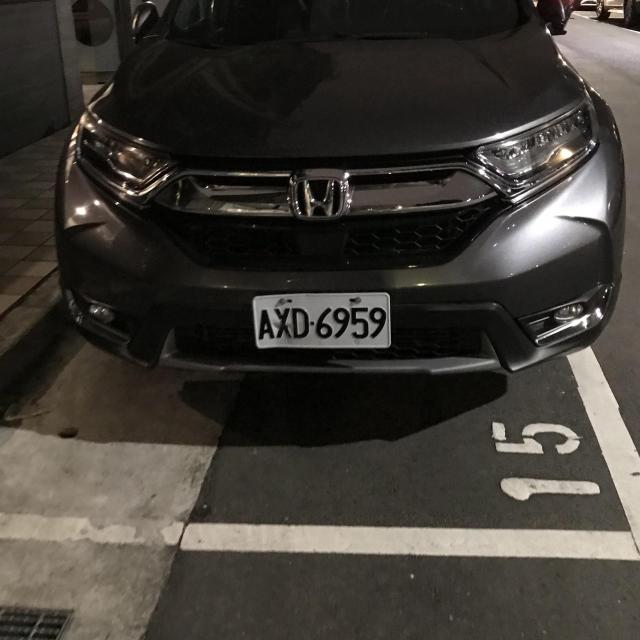W: (244, 278, 402, 364)
